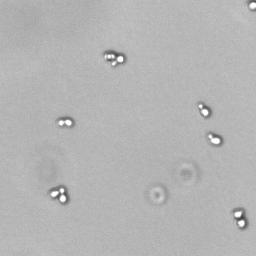budding: (48, 183, 70, 206), (232, 205, 249, 230), (193, 100, 215, 119), (204, 130, 226, 149), (54, 116, 76, 130)
cluster: (102, 48, 128, 69)
individual: (245, 1, 256, 12)
